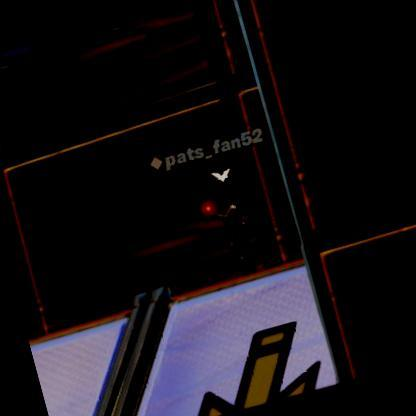person: (214, 192, 262, 277)
